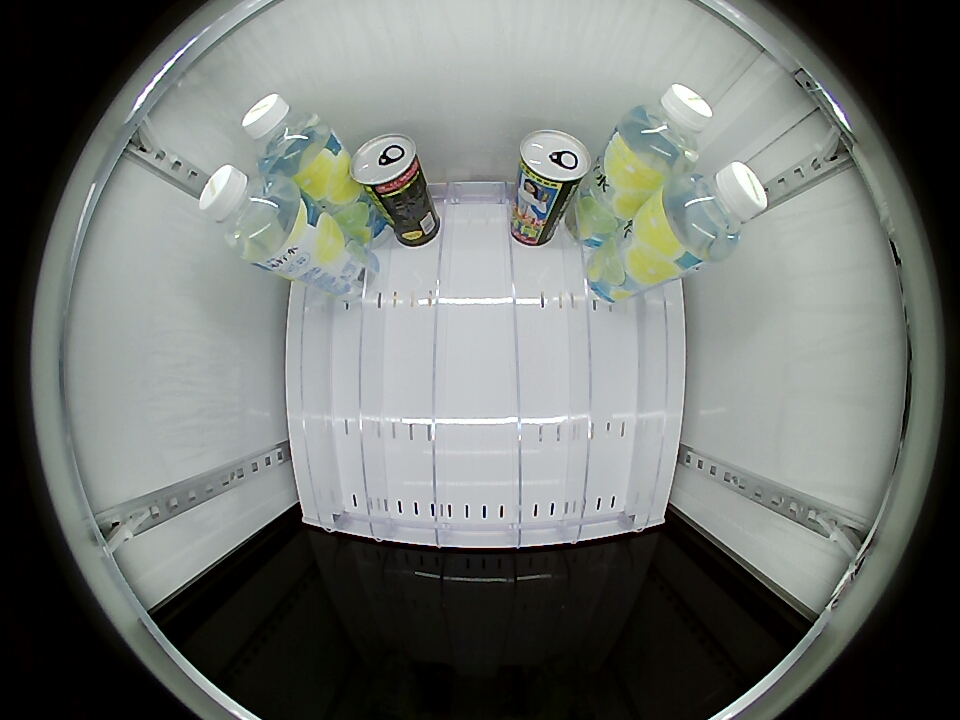qinningshui: (661, 160, 769, 262), (198, 164, 302, 263), (616, 84, 714, 176), (242, 94, 334, 178)
yezhi: (350, 132, 424, 202), (517, 128, 592, 195)
